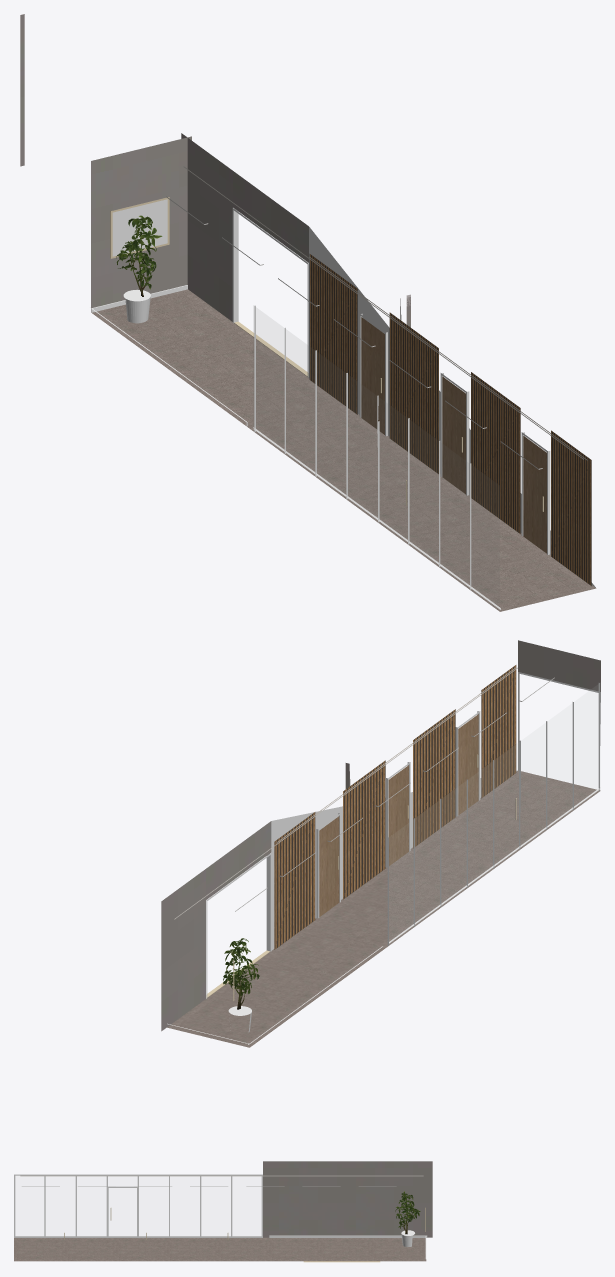
The model's file is z-corridor-lite.full.9a04b547.glb.
3 views of the same model, one above another, from view 1: azimuth 30°, elevation 25°; view 2: azimuth 150°, elevation 25°; view 3: azimuth 270°, elevation 25° (orthographic). The views are drawn at different scales.
Parts seen in each view (by area): view 1: corridor_terrazzo, corridor_proxy_slat, corridor_plaster, corridor_satin, corridor_oak, corridor_emit, corridor_veg_atlas, corridor_metal_satin; view 2: corridor_terrazzo, corridor_proxy_slat, corridor_plaster, corridor_satin, corridor_oak, corridor_emit, corridor_veg_atlas; view 3: corridor_plaster, corridor_terrazzo, corridor_satin, corridor_emit, corridor_veg_atlas, corridor_metal_satin.
Part boxes in pixels (left/top/right/bottom): corridor_terrazzo: left=91, top=289, right=596, bottom=611; corridor_proxy_slat: left=309, top=254, right=591, bottom=585; corridor_plaster: left=20, top=14, right=410, bottom=327; corridor_satin: left=90, top=199, right=595, bottom=609; corridor_oak: left=361, top=317, right=546, bottom=553; corridor_emit: left=166, top=166, right=587, bottom=469; corridor_veg_atlas: left=116, top=215, right=162, bottom=296; corridor_metal_satin: left=110, top=197, right=543, bottom=511; corridor_terrazzo: left=167, top=770, right=600, bottom=1047; corridor_proxy_slat: left=274, top=665, right=516, bottom=949; corridor_plaster: left=161, top=640, right=600, bottom=1031; corridor_satin: left=167, top=672, right=600, bottom=1044; corridor_oak: left=319, top=714, right=478, bottom=916; corridor_emit: left=174, top=667, right=554, bottom=919; corridor_veg_atlas: left=223, top=938, right=259, bottom=1009; corridor_plaster: left=263, top=1161, right=432, bottom=1237; corridor_terrazzo: left=14, top=1237, right=426, bottom=1261; corridor_satin: left=14, top=1174, right=427, bottom=1258; corridor_emit: left=20, top=1175, right=423, bottom=1186; corridor_veg_atlas: left=395, top=1191, right=420, bottom=1234; corridor_metal_satin: left=64, top=1207, right=425, bottom=1262.
Size of the model in its own units: 2.3 by 3.35 by 23.
9 materials, 5 textured.
